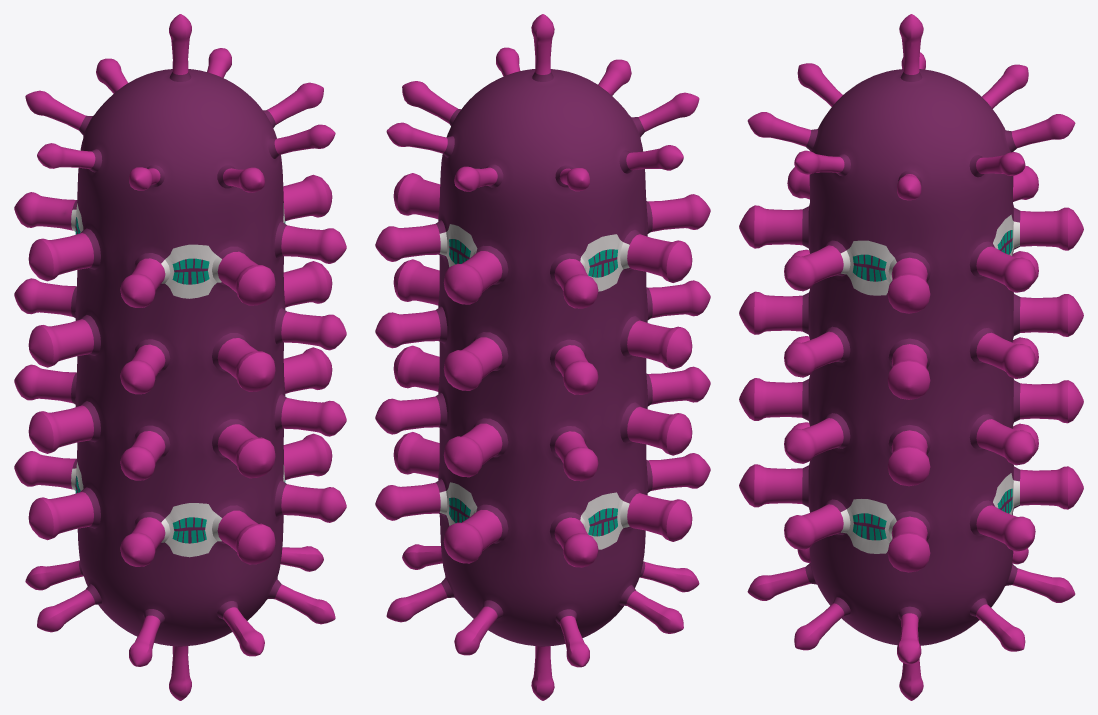
Rendered from ClostridiumModel.fbx.
3 renders of one model, left to right at view 1: azimuth 30°, elevation 25°; view 2: azimuth 150°, elevation 25°; view 3: azimuth 270°, elevation 25°, orthographic.
Visible parts, largest first — view 1: Clostridium; view 2: Clostridium; view 3: Clostridium.
Part boxes in pixels (left/top/right/bottom): Clostridium: left=14, top=14, right=346, bottom=700; Clostridium: left=375, top=14, right=710, bottom=700; Clostridium: left=739, top=14, right=1083, bottom=700.
Bounding box in the file's own units: 167 × 367 × 167.
1 material, 1 textured.
